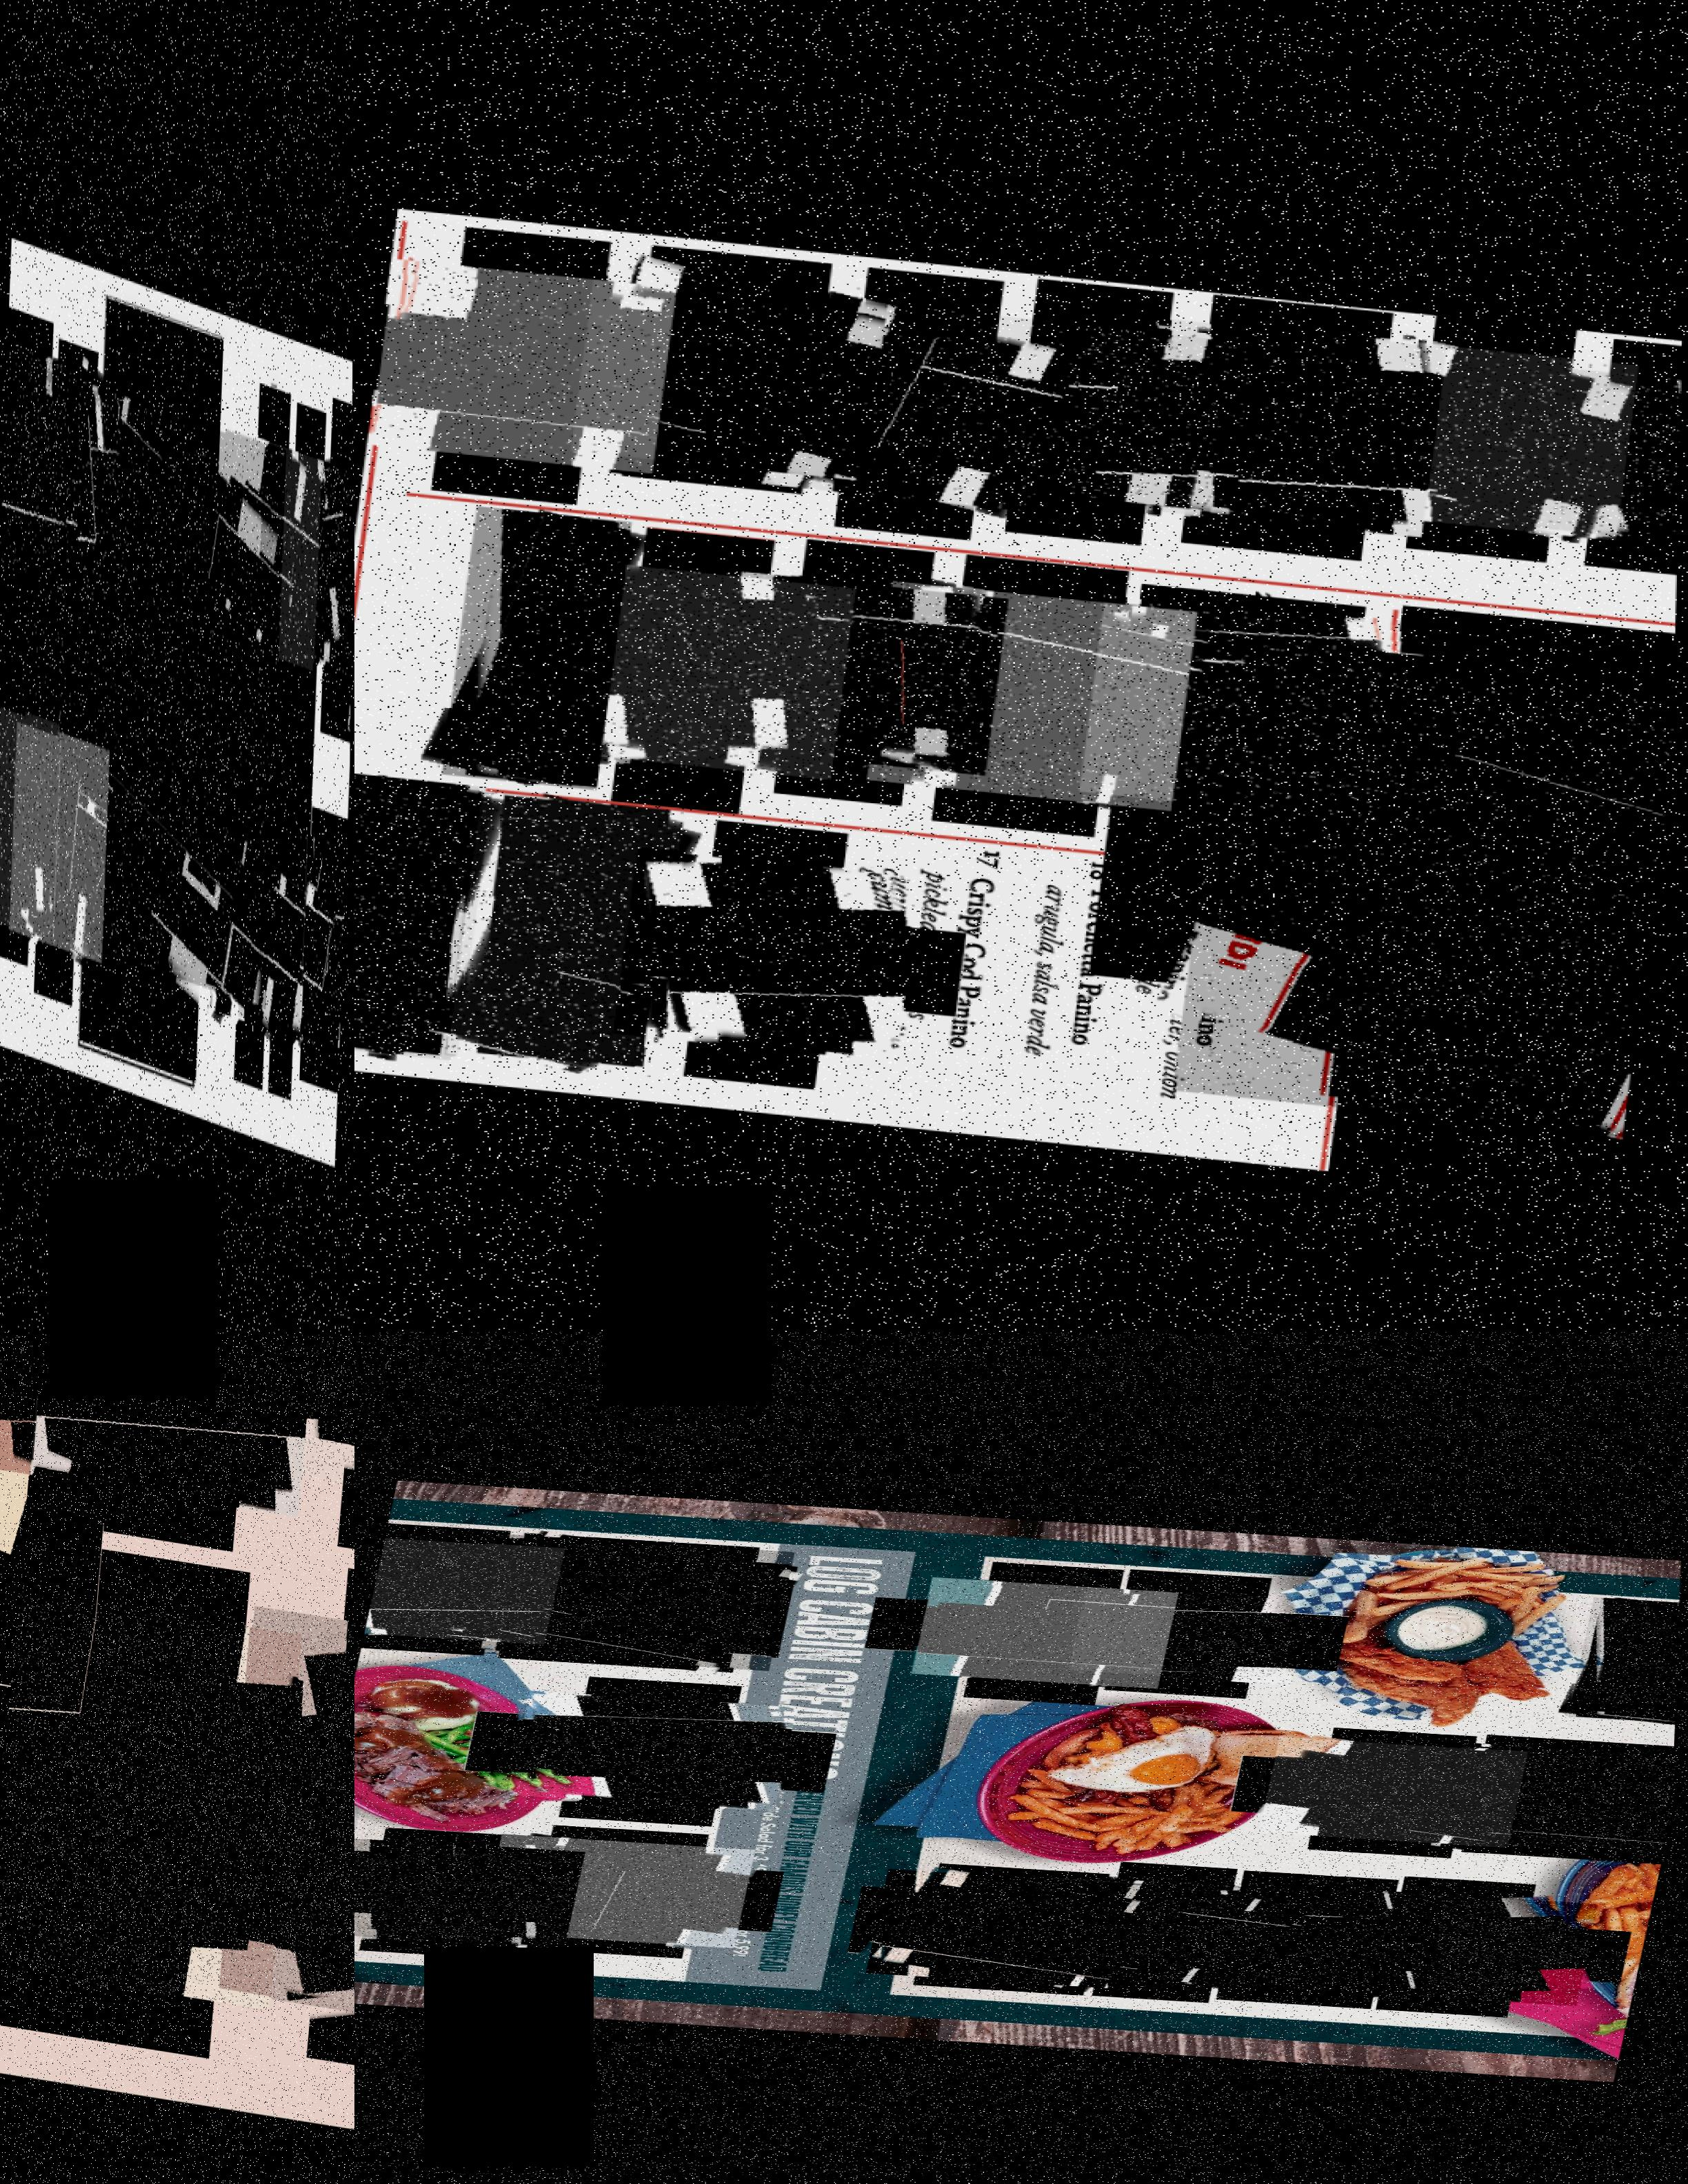Menu-Items: (1176, 640, 1677, 1122), (18, 362, 284, 1005), (0, 1560, 305, 1994), (862, 573, 1197, 801), (1075, 583, 1404, 810), (530, 555, 858, 778), (564, 254, 890, 475), (1124, 307, 1447, 527), (443, 787, 686, 1076), (757, 287, 1078, 505), (612, 844, 922, 1055), (369, 257, 676, 470), (706, 564, 1005, 768), (1342, 323, 1640, 527), (223, 1585, 355, 2028), (947, 305, 1234, 500), (438, 502, 633, 787), (0, 1331, 332, 1498), (463, 1532, 794, 1670), (1537, 741, 1674, 1049), (355, 771, 488, 1064), (853, 828, 1012, 1065), (505, 1689, 798, 1810), (1122, 851, 1259, 1104), (869, 1865, 1158, 1984), (1317, 1879, 1601, 1998), (1174, 1876, 1449, 1989), (484, 1833, 759, 1946), (1030, 1868, 1303, 1982), (1261, 1728, 1528, 1840), (910, 1572, 1177, 1684), (1514, 349, 1683, 527), (202, 782, 307, 1035), (1018, 844, 1131, 1076), (1442, 1734, 1677, 1845), (355, 1838, 589, 1948), (216, 415, 319, 665), (7, 718, 110, 966), (1066, 1576, 1310, 1679), (236, 800, 335, 1041), (257, 427, 353, 661), (25, 372, 121, 605), (365, 1537, 566, 1643), (183, 592, 273, 814), (0, 340, 73, 587), (1566, 1587, 1681, 1714), (0, 702, 59, 940), (280, 830, 348, 1034), (294, 440, 353, 661), (326, 851, 348, 1010)
